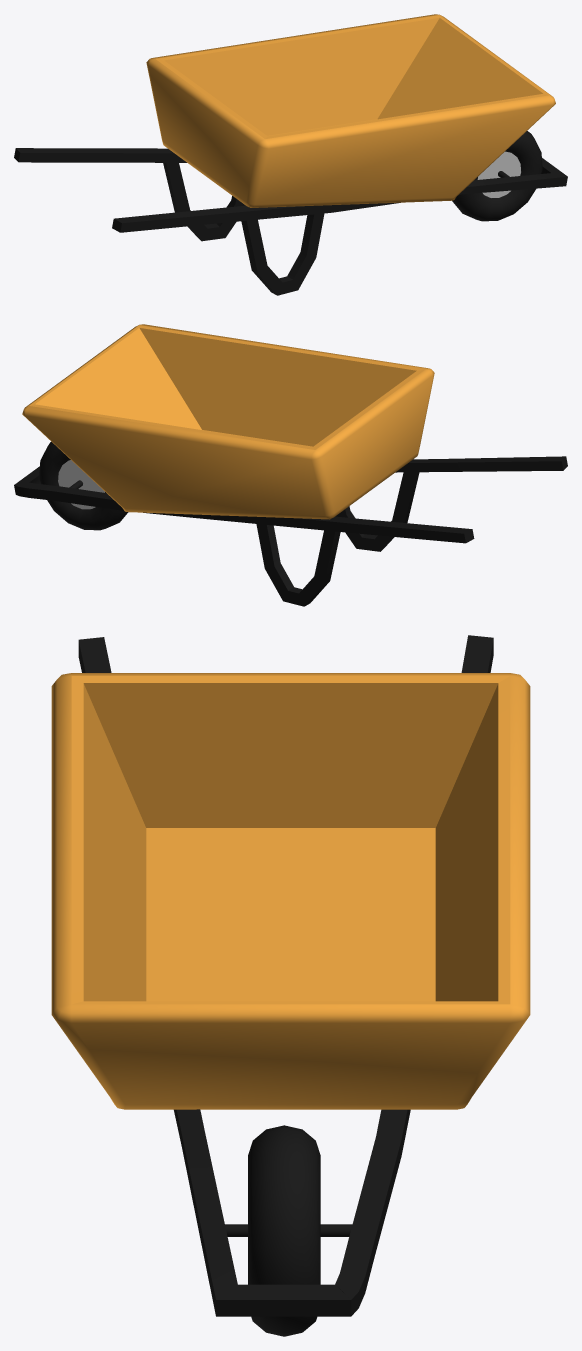
The model's file is WheelBarrow_1364.gltf.
3 views of the same model, one above another, from view 1: azimuth 30°, elevation 25°; view 2: azimuth 150°, elevation 25°; view 3: azimuth 270°, elevation 25° (orthographic). The views are drawn at different scales.
Visible parts, largest first — view 1: node-0; view 2: node-0; view 3: node-0.
Boxes of the visible parts, box(x1,y1,x2,y2) form: node-0: box(14, 14, 567, 295); node-0: box(14, 324, 567, 606); node-0: box(51, 635, 530, 1336).
Size of the model in its own units: 94.88 by 35.02 by 40.45.
